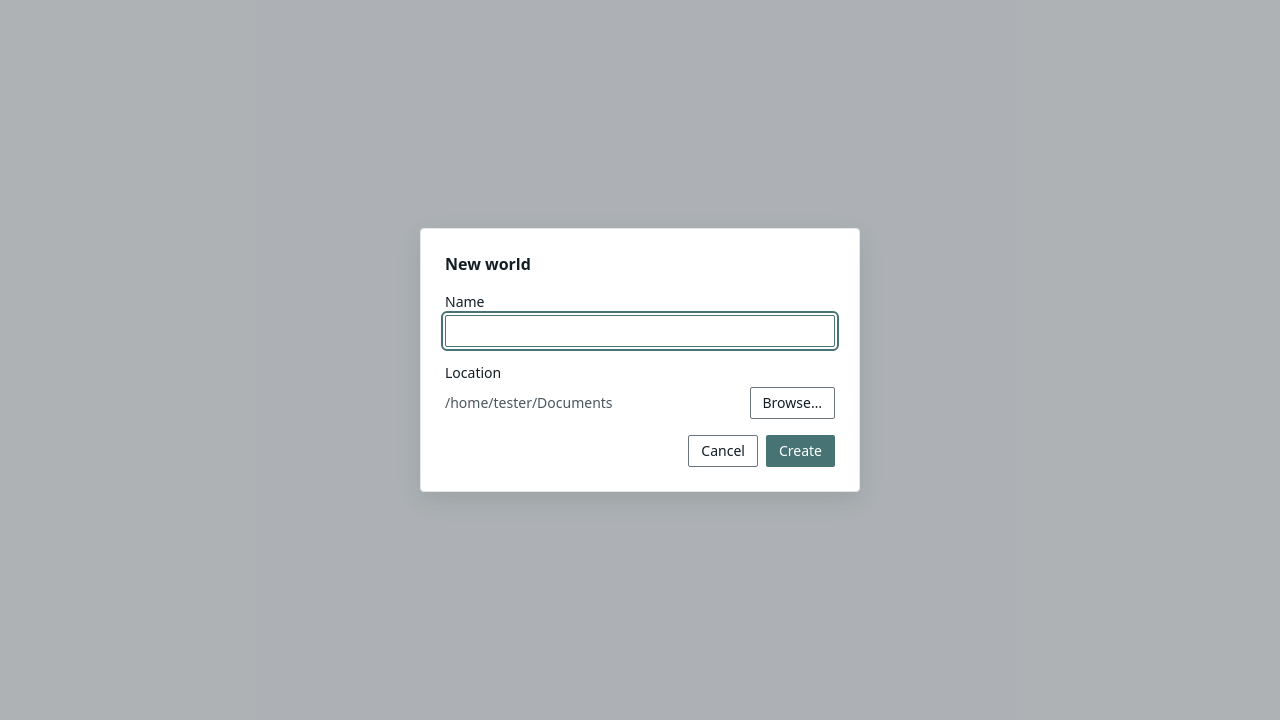
Test: NewWorldDialog › shows the default location, and Browse… shows the folder picked instead
Check: the element "Location" shows "/home/tester/Documents", box [445, 393, 613, 412]
Click the button "Browse…" at x=792, y=403, box [750, 387, 835, 419]
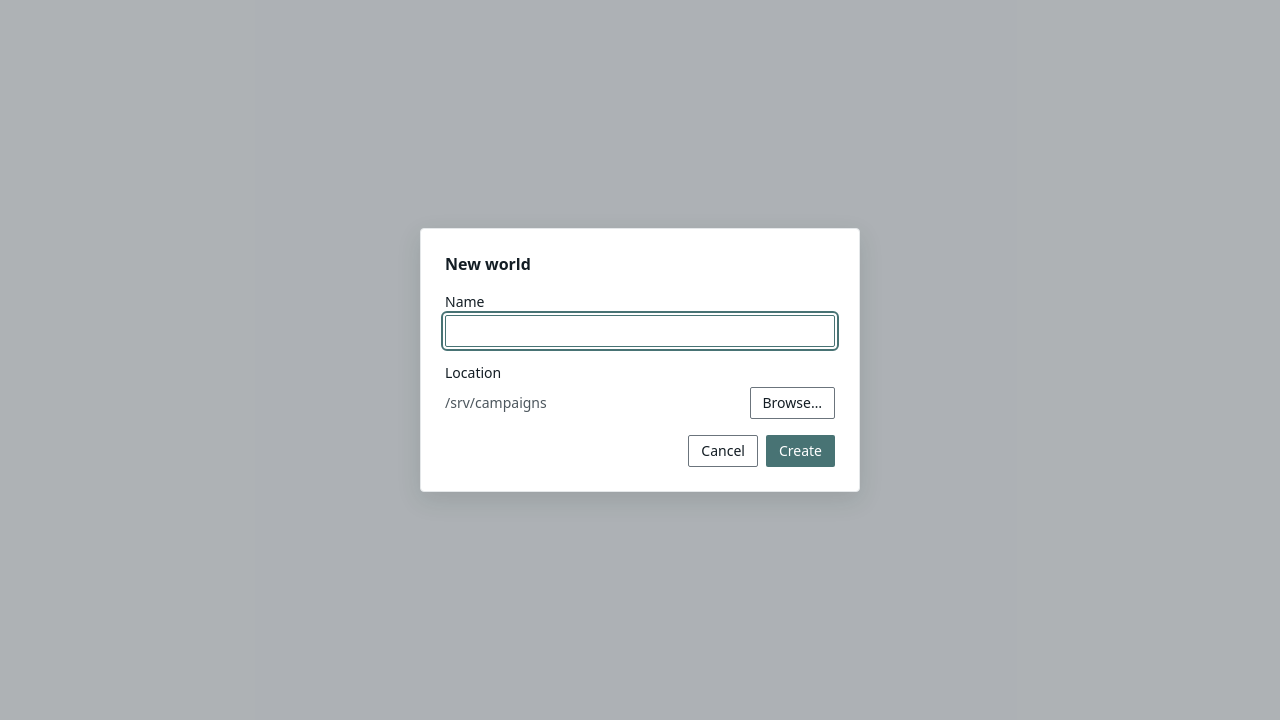
Check: the element "Location" shows "/srv/campaigns", box [445, 393, 547, 412]
